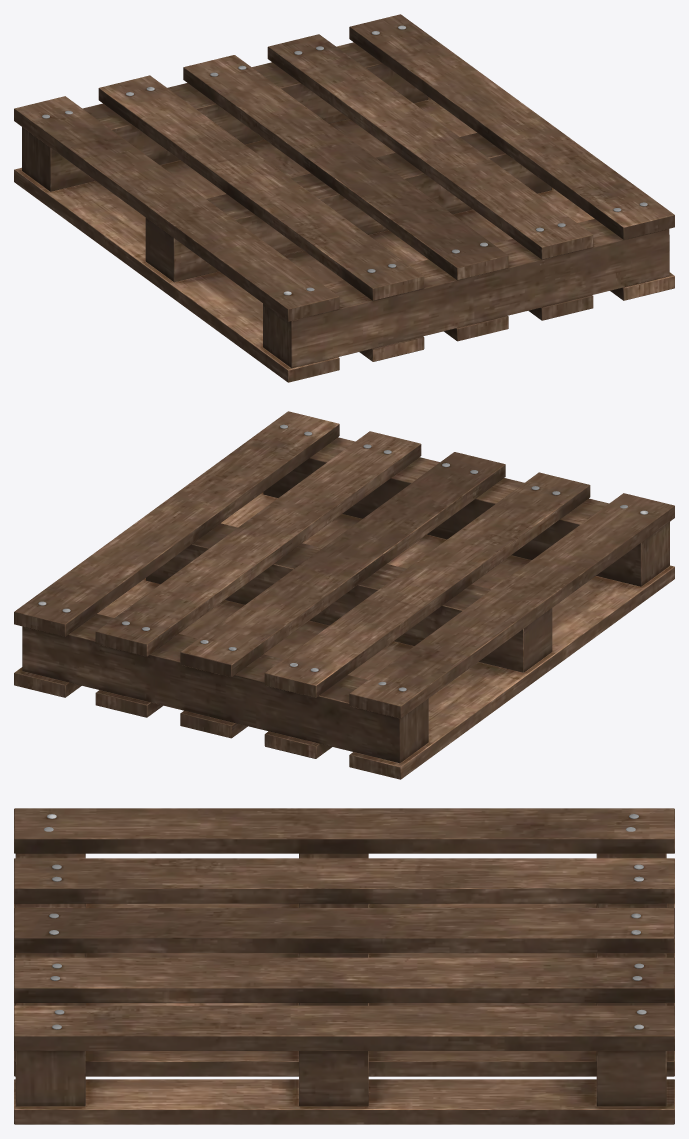
File: palet_interior.glb
The picture shows the model from 3 angles, top to bottom: view 1: azimuth 30°, elevation 25°; view 2: azimuth 150°, elevation 25°; view 3: azimuth 270°, elevation 25°; orthographic projection. The views are drawn at different scales.
Visible parts, largest first — view 1: g (×2); view 2: g (×2); view 3: g (×2).
Boxes of the visible parts, x1,y1,x2,y2 form: g (×2): [14, 14, 674, 382]; g (×2): [14, 411, 674, 779]; g (×2): [14, 808, 674, 1124].
Bounding box in the file's own units: 1.63 × 0.3128 × 2.
5 materials, 5 textured.
